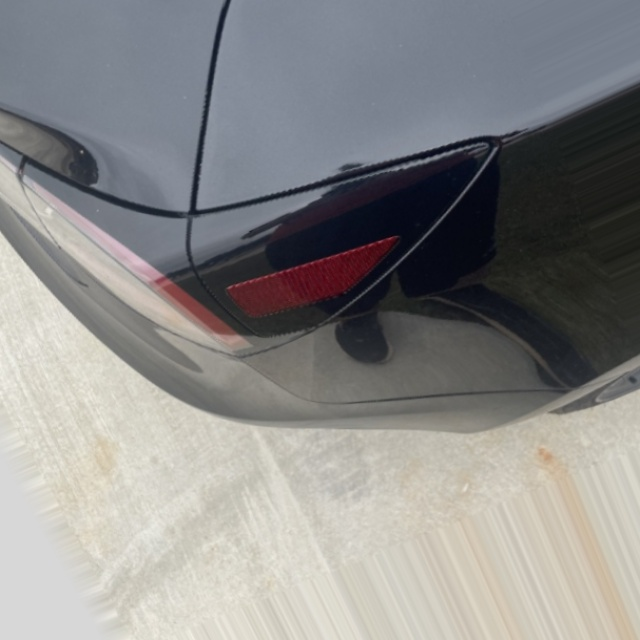reflector: (220, 210, 417, 341)
